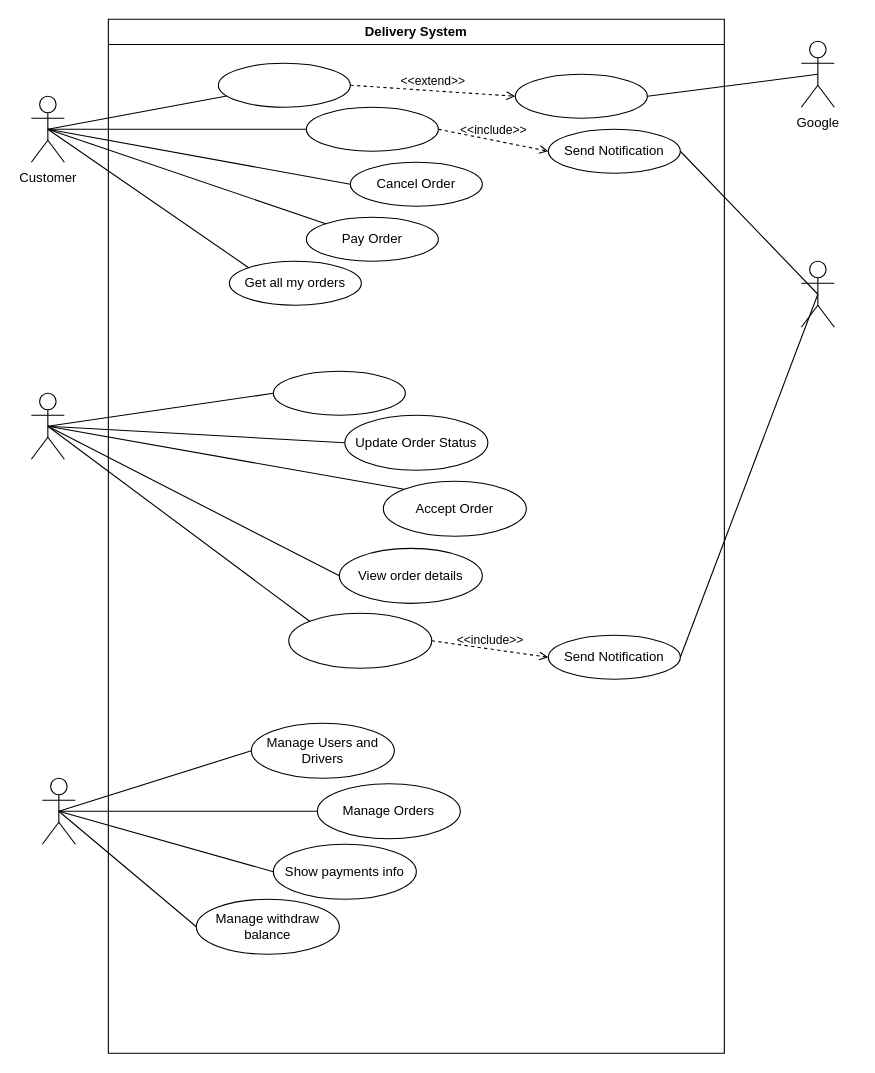
This 875x1073 diagram has some shape labels left out. The centre of each missing label's shape, as x and y in pixels:
"Admin" goes at pixel 58 810.
"Create Order" goes at pixel 371 128.
"Driver" goes at pixel 47 425.
"FCM Service" goes at pixel 817 293.
"Google Authenticated" goes at pixel 580 95.
"Login / Auth Google" goes at pixel 338 392.
"Register / Login / Auth Google" goes at pixel 283 84.
"Withdraw balance" goes at pixel 360 640.
